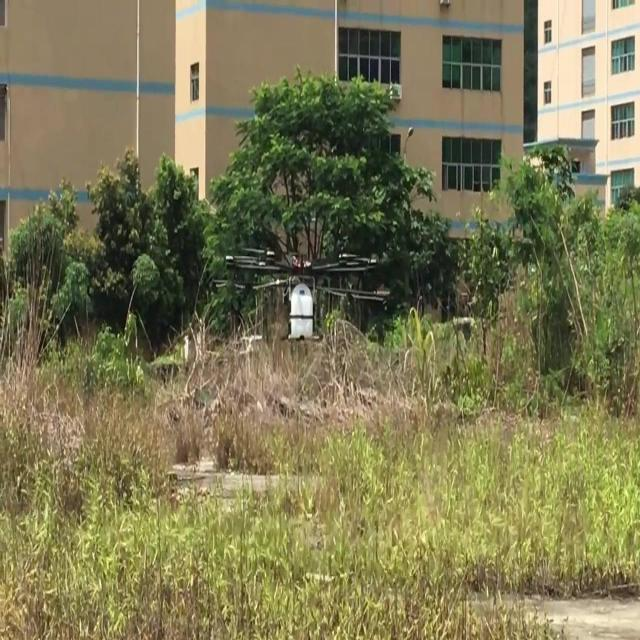drone: (210, 238, 394, 346)
